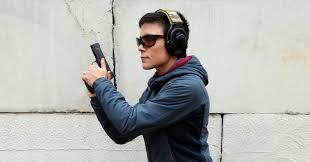Gun: (85, 39, 114, 77)
